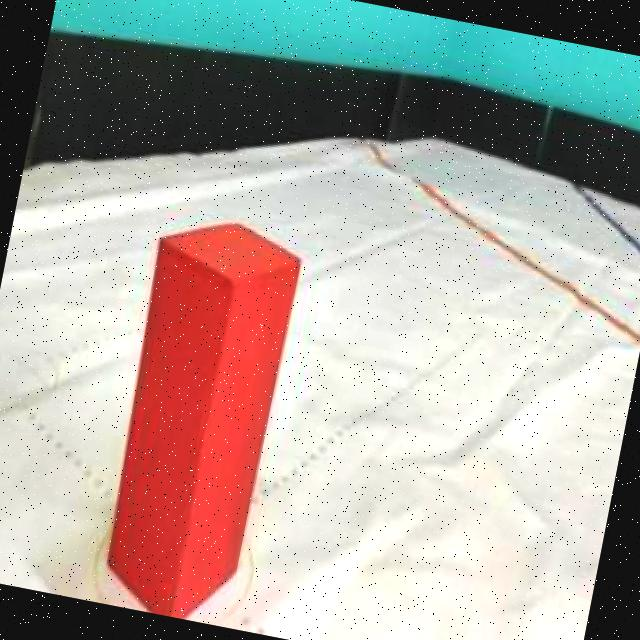redbox: (90, 204, 310, 629)
